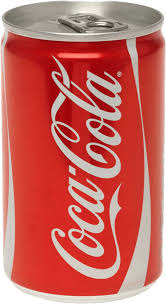coke: (1, 1, 166, 302)
